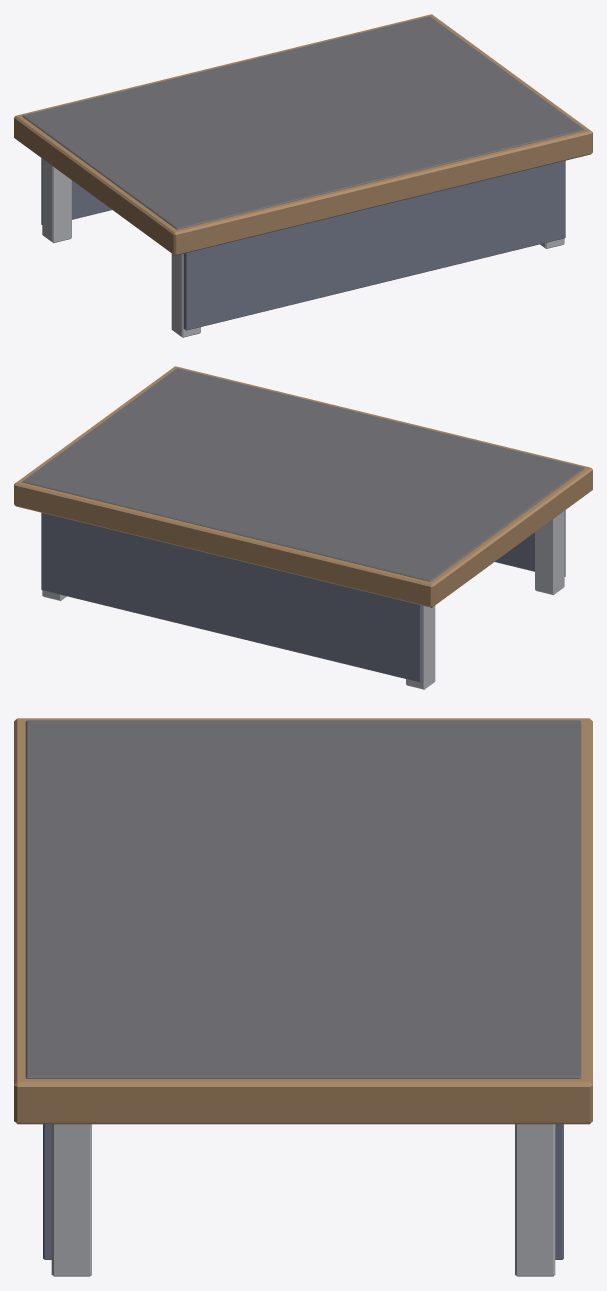
Rendered from orchestra-and-band-instruments-stage-riser-c7b4fe3a__39322.glb.
3 renders of one model, top to bottom at view 1: azimuth 30°, elevation 25°; view 2: azimuth 150°, elevation 25°; view 3: azimuth 270°, elevation 25°, orthographic. The views are drawn at different scales.
Parts seen in each view (by area): view 1: stage-riser; view 2: stage-riser; view 3: stage-riser.
Part boxes in pixels (box(x1,y1,x2,y2)): stage-riser: box(14, 14, 592, 337); stage-riser: box(14, 366, 592, 689); stage-riser: box(14, 718, 592, 1276).
Size of the model in its own units: 1.5 by 0.4039 by 1.
